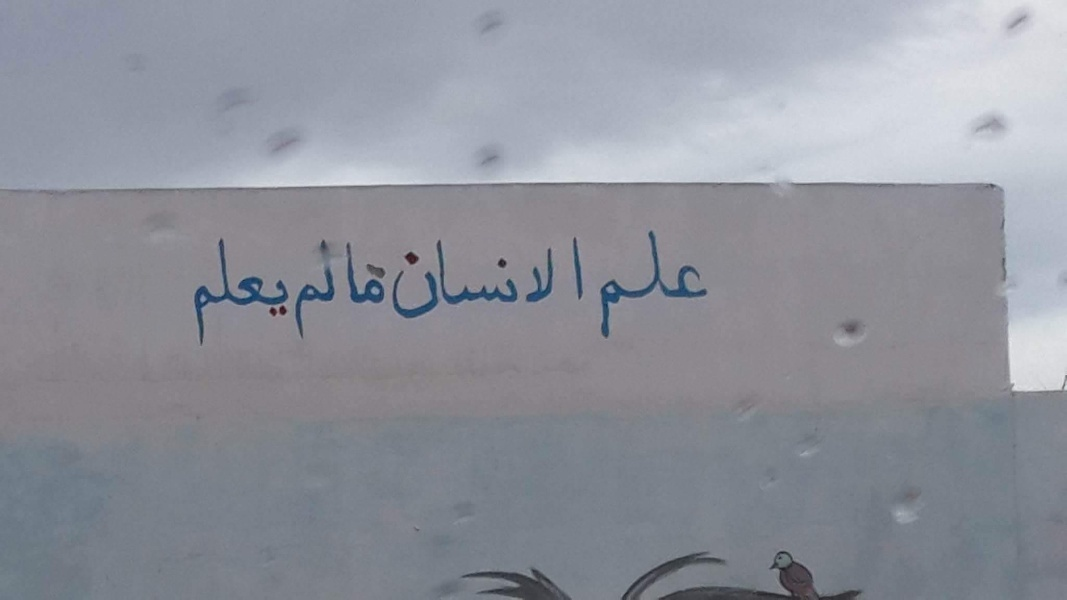text: (193, 232, 208, 351), (209, 232, 224, 351), (225, 232, 240, 351), (241, 232, 256, 351), (257, 232, 272, 351), (273, 232, 288, 351), (609, 227, 624, 343), (625, 227, 640, 343), (641, 227, 656, 343), (657, 227, 672, 343), (673, 227, 688, 343), (689, 227, 704, 343), (594, 227, 608, 343), (289, 235, 304, 343), (305, 235, 320, 343), (321, 235, 336, 343), (401, 233, 416, 325), (417, 233, 432, 325), (433, 233, 448, 325), (449, 233, 464, 325), (465, 233, 480, 325), (481, 233, 496, 325), (497, 233, 512, 325), (513, 233, 528, 325), (529, 233, 544, 325), (545, 233, 560, 325), (561, 233, 576, 325), (705, 227, 716, 343), (577, 233, 589, 325), (353, 239, 368, 311), (369, 239, 384, 311), (389, 233, 400, 325), (184, 232, 192, 351), (340, 239, 352, 311), (337, 235, 344, 343), (289, 232, 295, 351), (385, 239, 391, 311), (287, 235, 288, 343)
